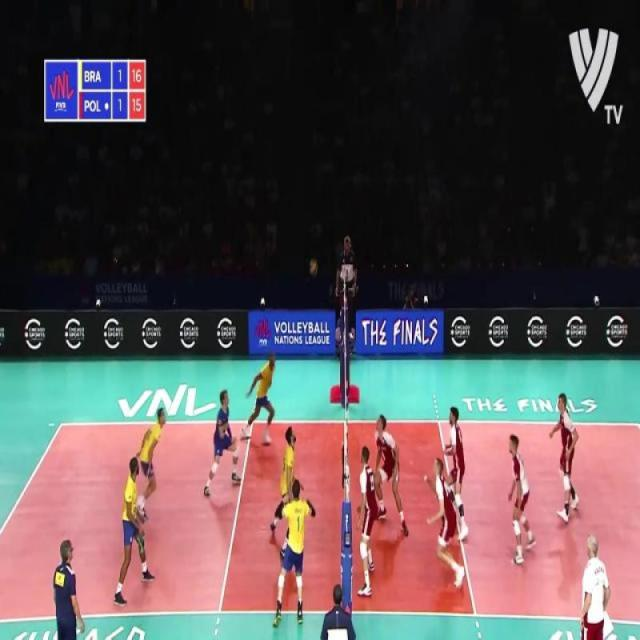volleyball: (310, 257, 318, 278)
